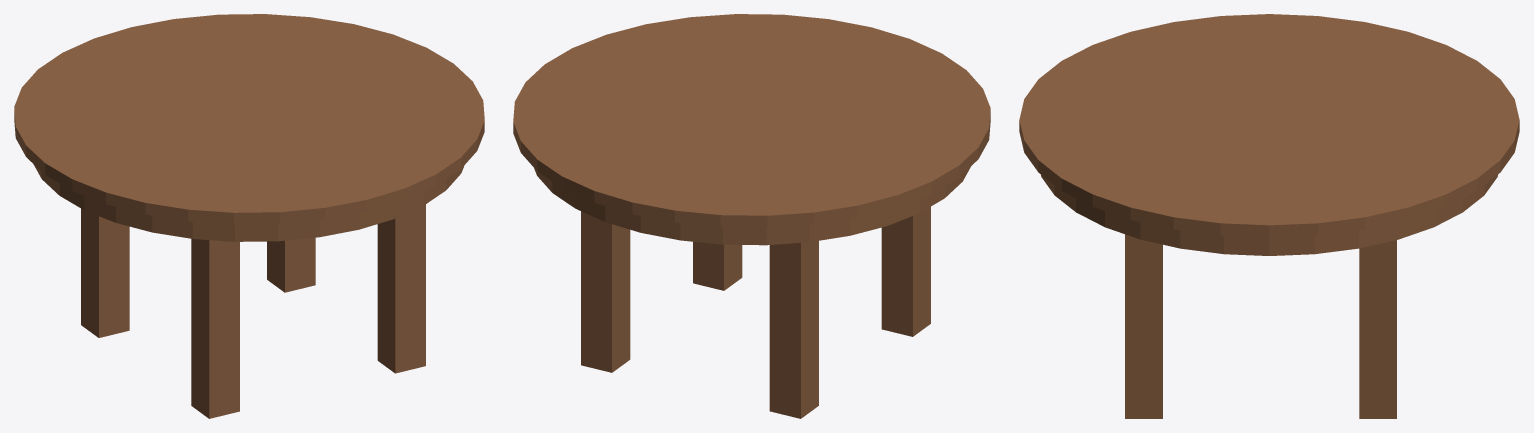
The model's file is breakfast table.fbx.
3 views of the same model, side by side, from view 1: azimuth 30°, elevation 25°; view 2: azimuth 150°, elevation 25°; view 3: azimuth 270°, elevation 25° (orthographic). The views are drawn at different scales.
Visible parts, largest first — view 1: Circle, Cube, Cube.001, Cube.003, Cube.002; view 2: Circle, Cube.003, Cube.002, Cube, Cube.001; view 3: Circle, Cube.001, Cube.002.
Part boxes in pixels (left/top/right/bottom): Circle: left=14, top=14, right=484, bottom=241; Cube: left=191, top=239, right=239, bottom=418; Cube.001: left=377, top=204, right=425, bottom=373; Cube.003: left=81, top=208, right=129, bottom=337; Cube.002: left=267, top=237, right=315, bottom=292; Circle: left=513, top=14, right=990, bottom=245; Cube.003: left=769, top=241, right=818, bottom=418; Cube.002: left=581, top=211, right=630, bottom=372; Cube: left=881, top=207, right=930, bottom=336; Cube.001: left=693, top=241, right=742, bottom=290; Circle: left=1019, top=14, right=1519, bottom=255; Cube.001: left=1125, top=234, right=1162, bottom=418; Cube.002: left=1359, top=240, right=1396, bottom=418.
Size of the model in its own units: 329 by 177 by 329.
